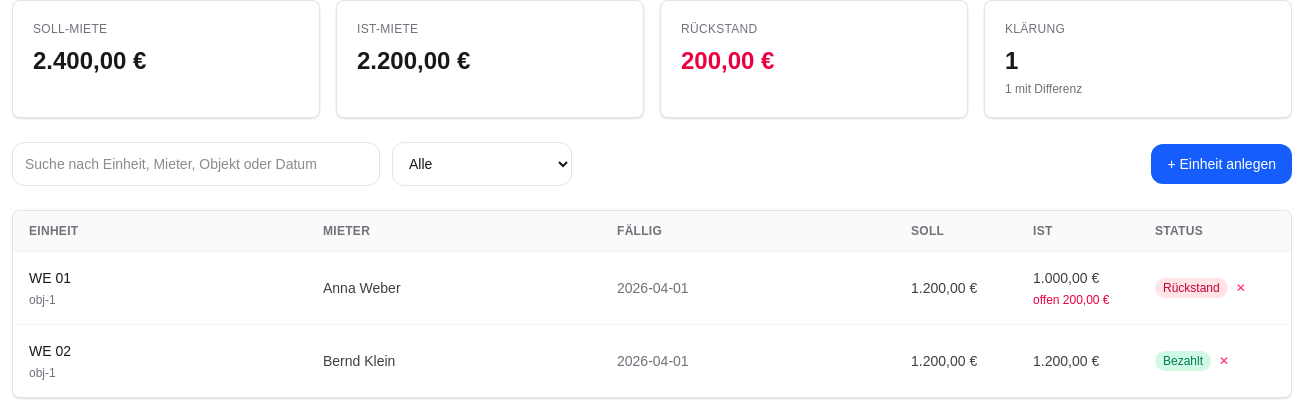
Scenario: MietuebersichtModule › filters rent units by search text and payment status
Check: the text "WE 01" is shown, box [29,270,71,286]
Check: the text "WE 02" is shown, box [29,343,71,359]
In the field named "Mieteinheiten suchen": (196, 164) [12,142,380,186], type "Bernd"
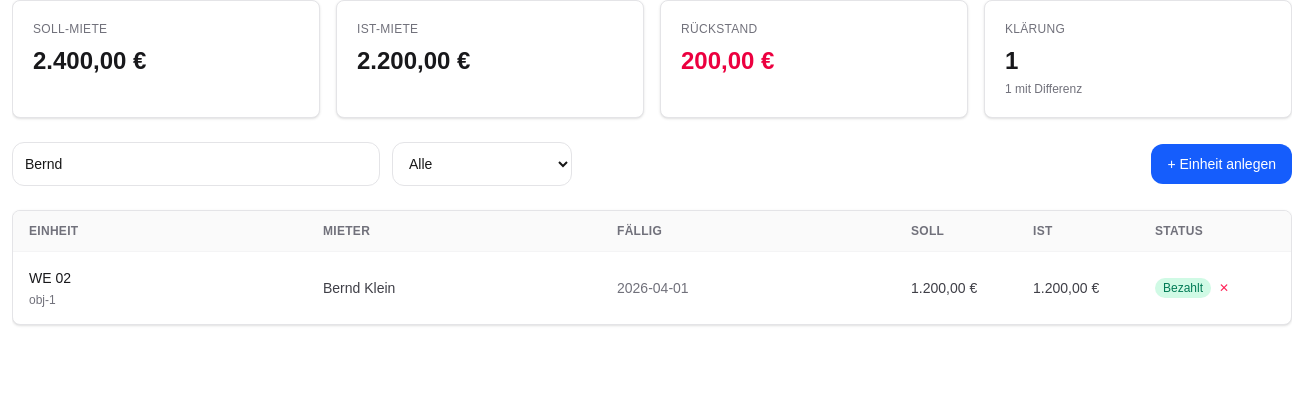
Check: the text "WE 02" is shown, box [29,270,71,286]
Check: the text "WE 01" is gone
Select "Rückstand" in the dropdown named "Zahlungsstatus filtern": (482, 164) [392,142,572,186]
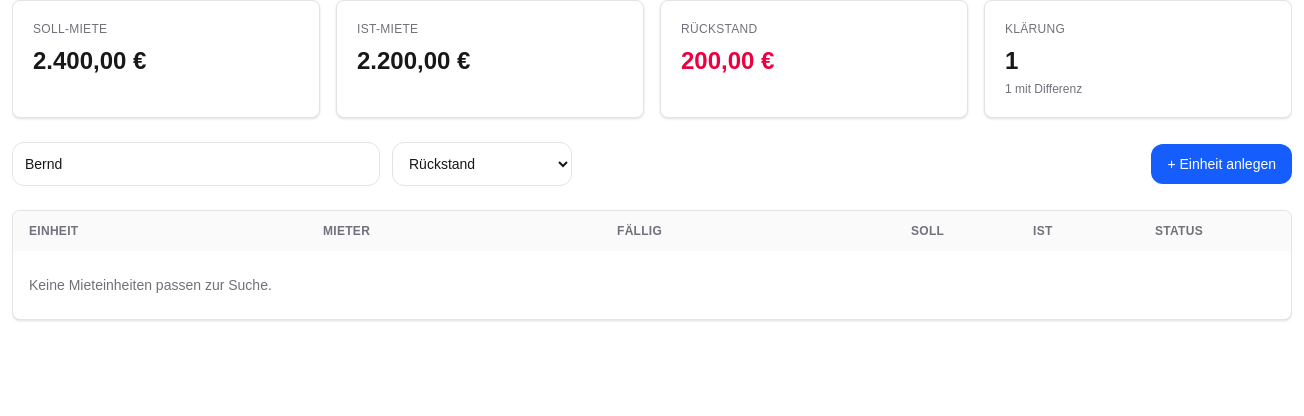
Check: the text "Keine Mieteinheiten passen zur Suche." is shown, box [29,277,272,293]
